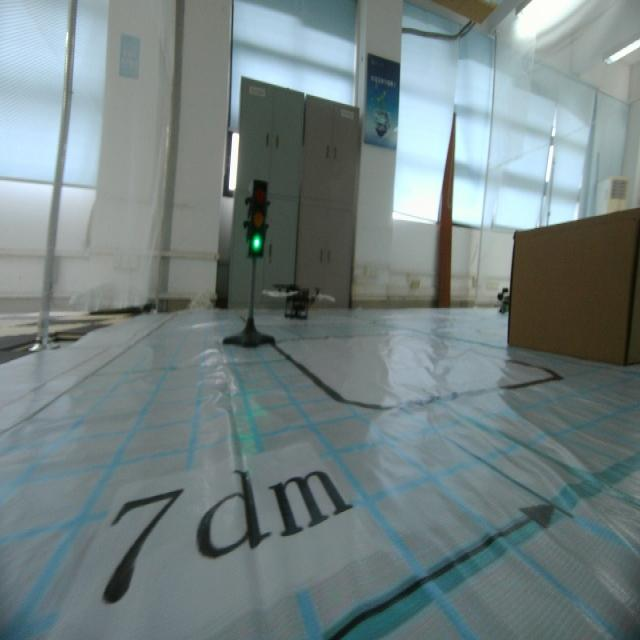green: (245, 179, 269, 257)
